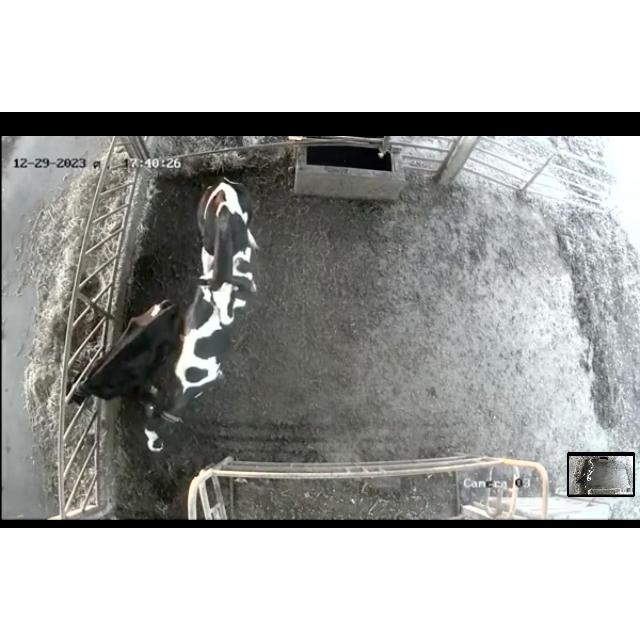propping: (185, 264, 259, 332)
